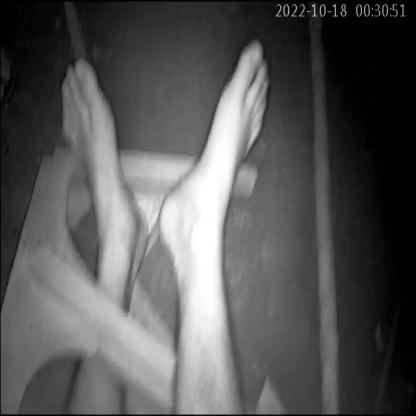leg: (154, 30, 281, 416), (49, 49, 145, 416)
